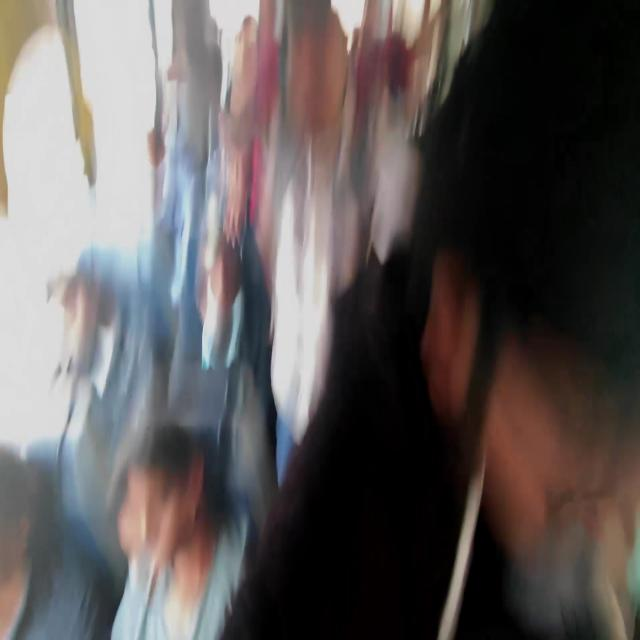person: (5, 1, 638, 638), (408, 0, 639, 638), (218, 233, 464, 638), (109, 413, 249, 638), (0, 446, 58, 638)
